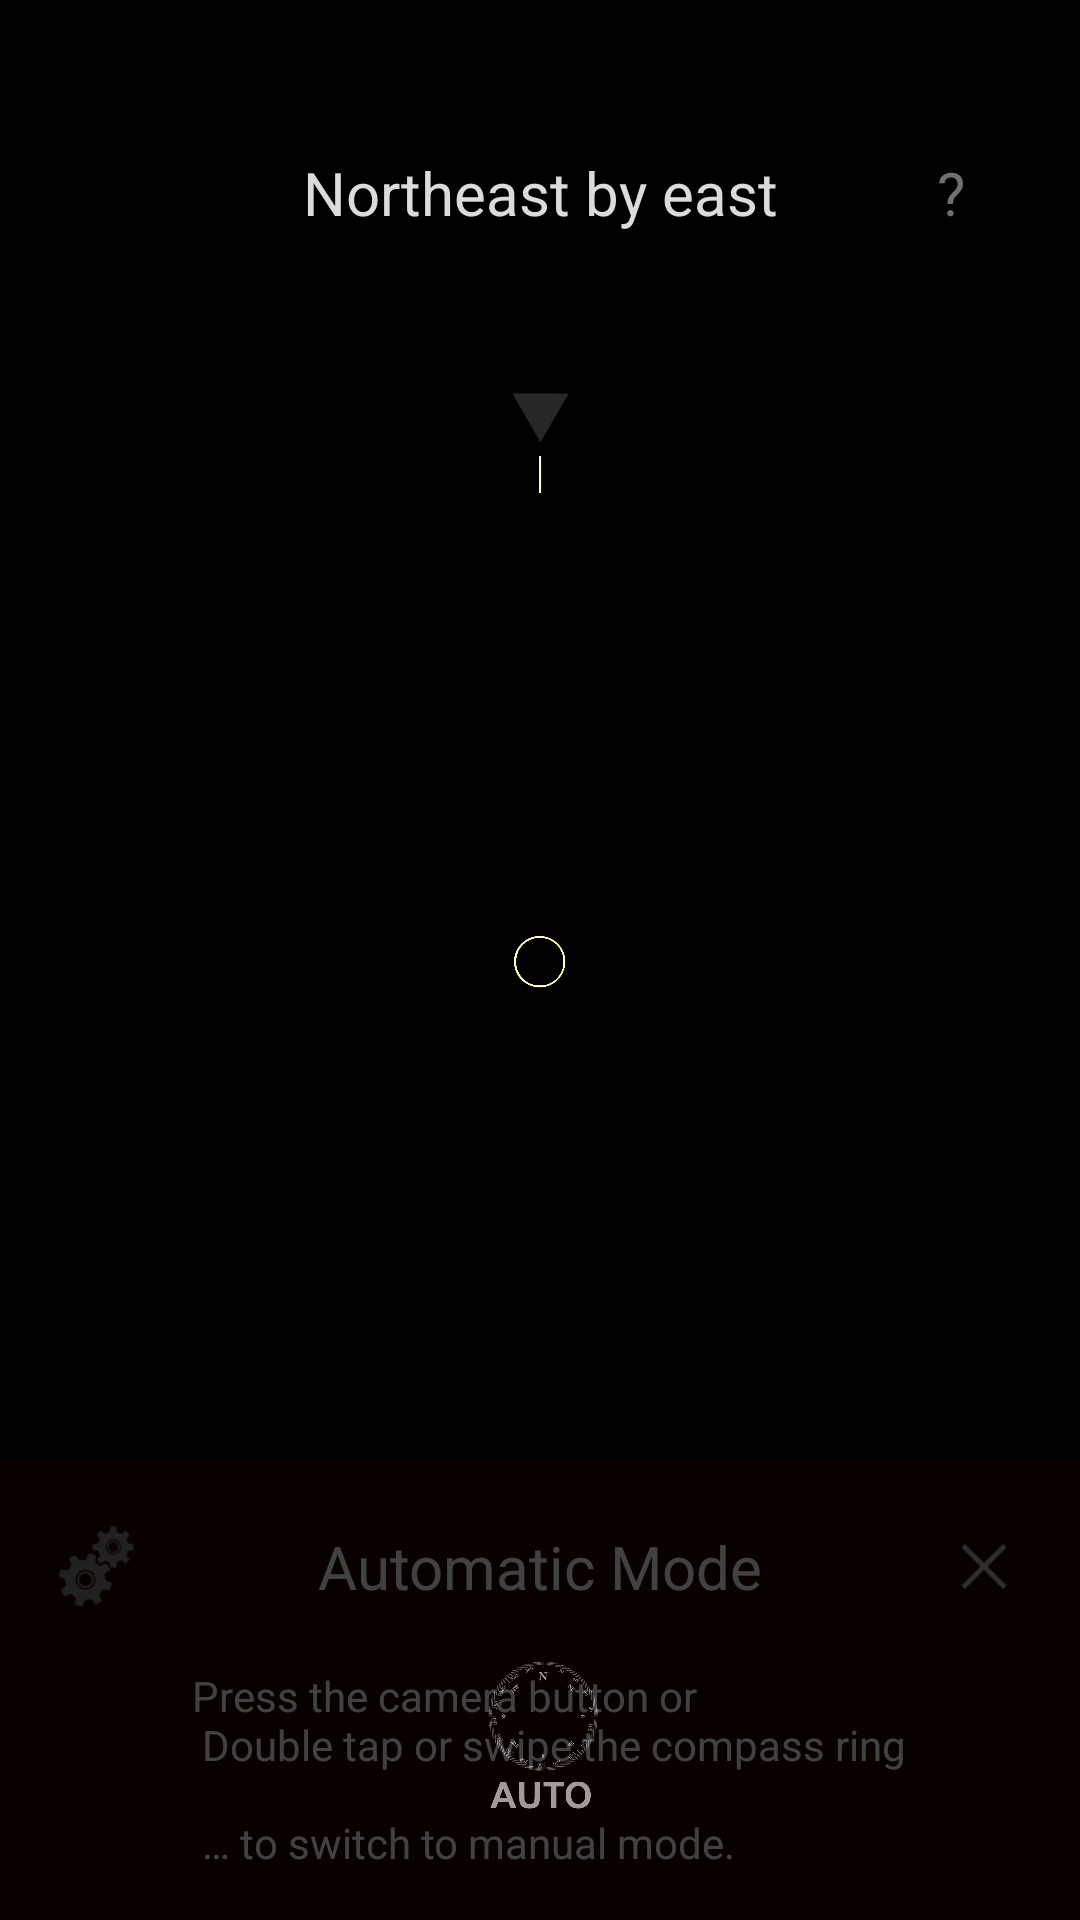

Icons on this 1080*1920 Android screen, each with the point to tap as (x=x, y=y):
close clear cancel: (x=984, y=1566)
Settings: (x=96, y=1566)
toggle manual mode: (x=540, y=1735)
